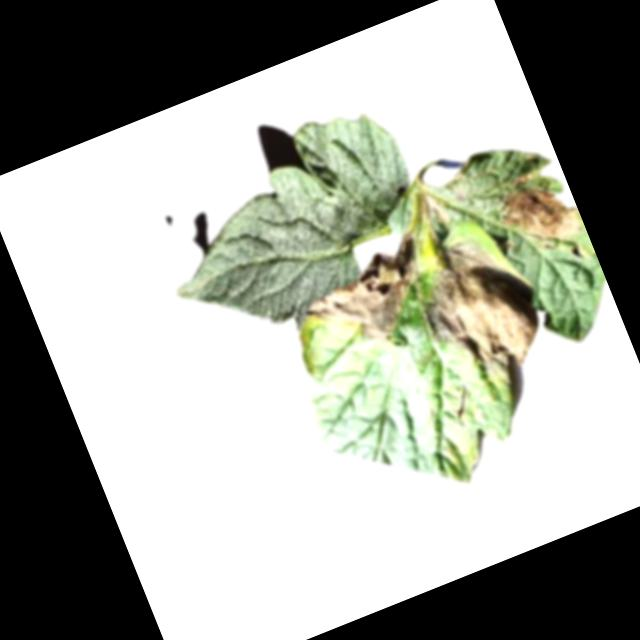Late_blight: (397, 219, 561, 404), (291, 231, 447, 367), (489, 170, 588, 263), (421, 188, 453, 231), (505, 167, 543, 191)
healthy: (132, 94, 441, 350)
